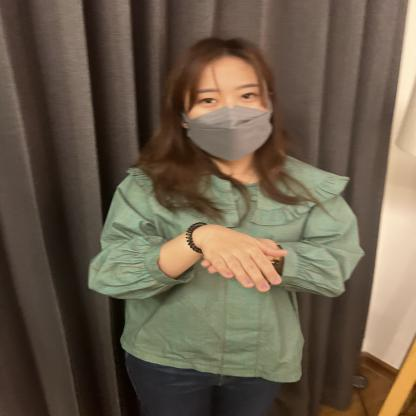Love: (70, 191, 416, 358)
